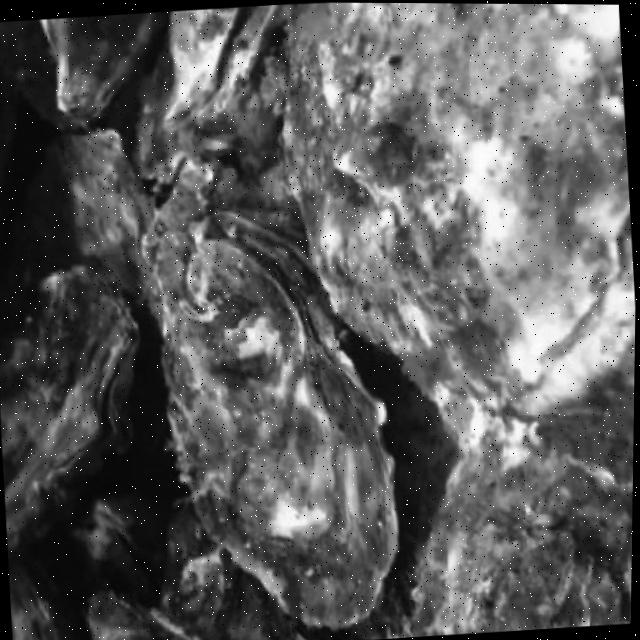Oyster-Closed: (0, 277, 132, 546)
Oyster-Indeterminate: (277, 2, 635, 421), (178, 218, 409, 636), (414, 413, 634, 637), (44, 12, 155, 124)
Oyster-Open: (167, 4, 279, 127)
